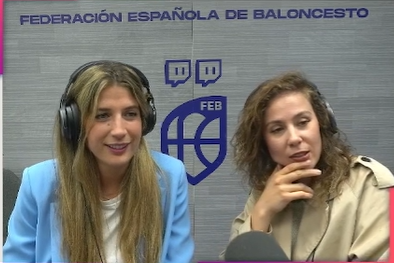person: (2, 59, 195, 262), (220, 71, 393, 261)
